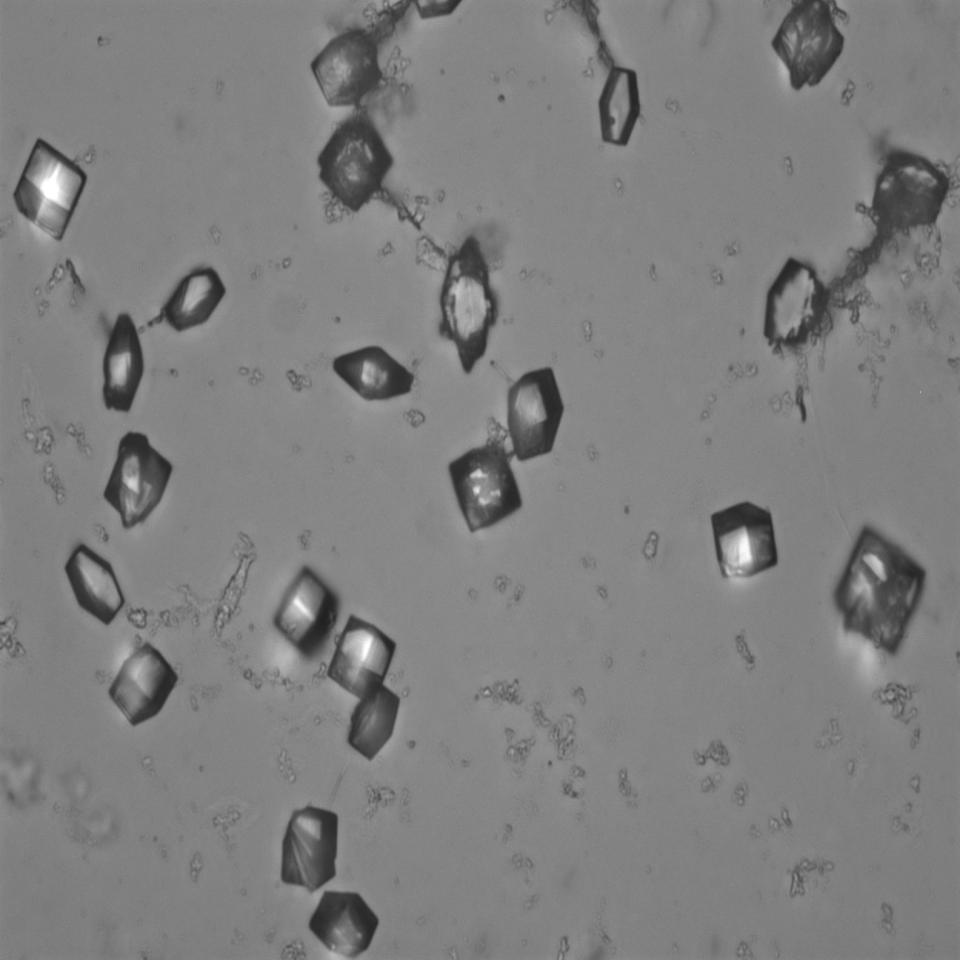crystal: (831, 517, 929, 649), (434, 237, 502, 370), (701, 490, 793, 588), (770, 3, 853, 102), (14, 139, 87, 250), (311, 114, 393, 212), (100, 429, 181, 528), (321, 335, 430, 408), (442, 441, 525, 533), (763, 249, 827, 363), (308, 28, 390, 109), (502, 360, 566, 462), (66, 546, 138, 636), (276, 803, 344, 895), (862, 149, 943, 223), (106, 644, 178, 726), (309, 891, 393, 960), (325, 616, 398, 692), (274, 567, 336, 654), (99, 306, 146, 415), (595, 51, 643, 150), (163, 268, 236, 332), (347, 684, 408, 758)
